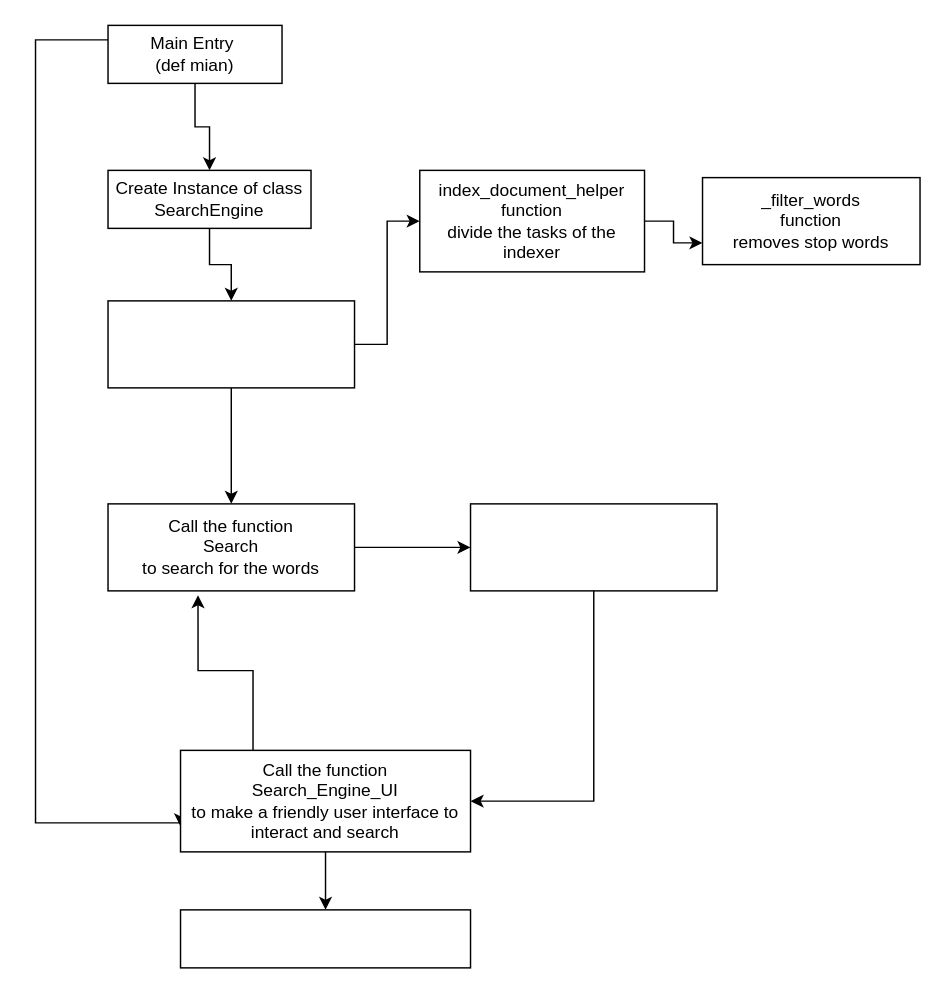
Some shapes in this 945 by 993 pixel diagram are drawn without their labels. The centre of each missing label's shape, as x and y in pixels:
"Call the function display_results to get the results after a search" belongs at point (593, 546).
"Call the function load_documents_and_index to initialize the indexer" belongs at point (231, 343).
"Terminate in case of exit command" belongs at point (325, 938).
